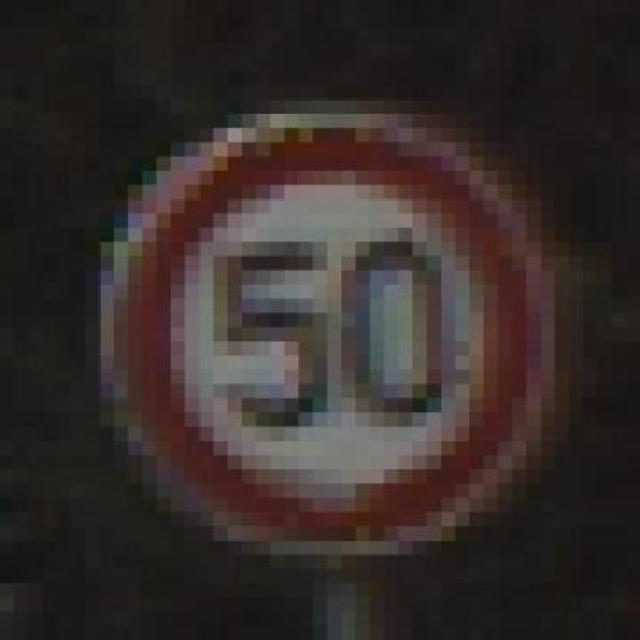50 mph speed limit: (71, 99, 569, 555)
